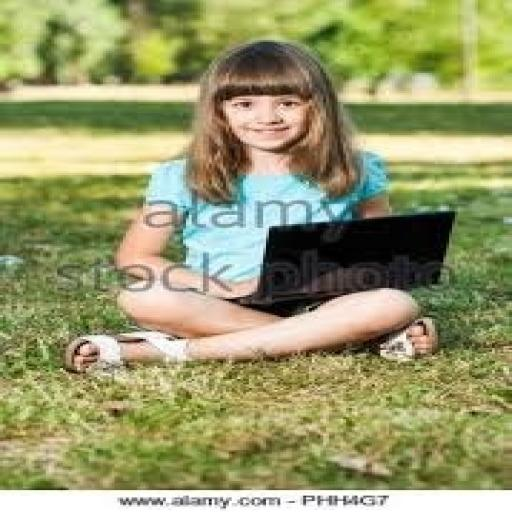using_laptop: (226, 208, 458, 306)
